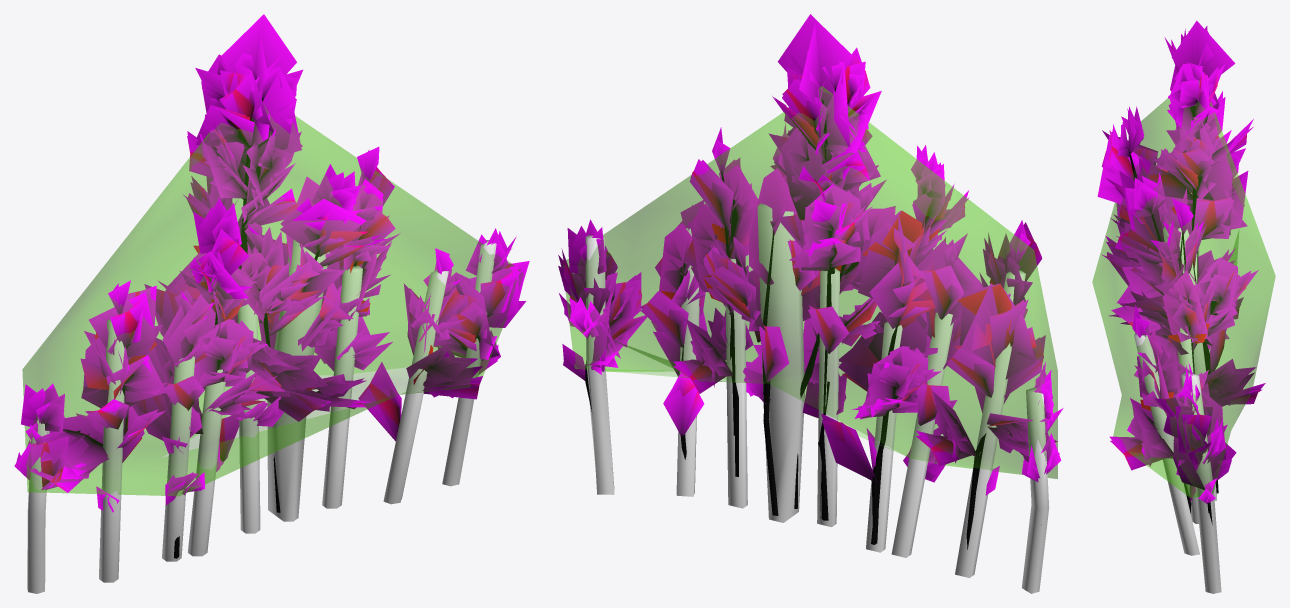
Rendered from tree_aspen_wall.dae.
3 renders of one model, left to right at view 1: azimuth 30°, elevation 25°; view 2: azimuth 150°, elevation 25°; view 3: azimuth 270°, elevation 25°, orthographic. The views are drawn at different scales.
Parts seen in each view (by area): view 1: Colmesh_wall-1, Birch_wall_a300, Birch_wall_a1200; view 2: Colmesh_wall-1, Birch_wall_a300, Birch_wall_a1200; view 3: Colmesh_wall-1, Birch_wall_a300, Birch_wall_a1200.
Part boxes in pixels (x1,y1,x2,y2): Colmesh_wall-1: (22,105,523,593); Birch_wall_a300: (20,14,529,512); Birch_wall_a1200: (14,60,522,558); Colmesh_wall-1: (563,86,1057,593); Birch_wall_a300: (558,14,1061,544); Birch_wall_a1200: (558,53,1063,549); Colmesh_wall-1: (1092,80,1275,593); Birch_wall_a300: (1097,20,1265,503); Birch_wall_a1200: (1100,30,1262,524).
Size of the model in its own units: 11.92 by 3.99 by 11.76.
